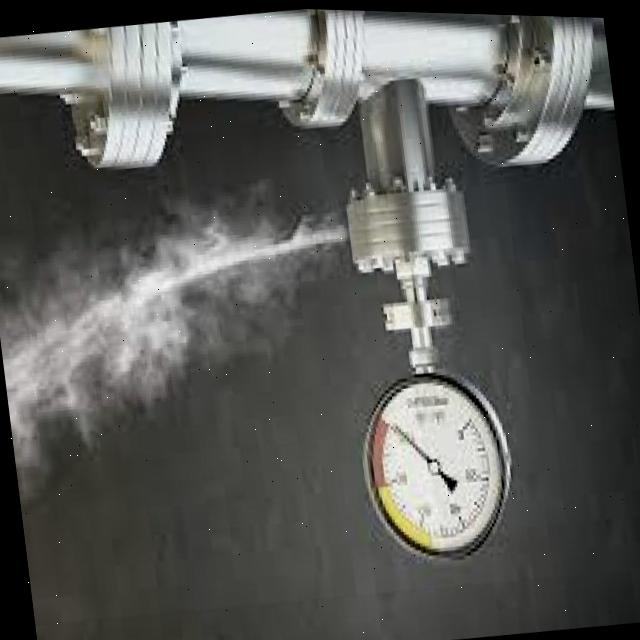corrosion: (143, 131, 449, 359)
